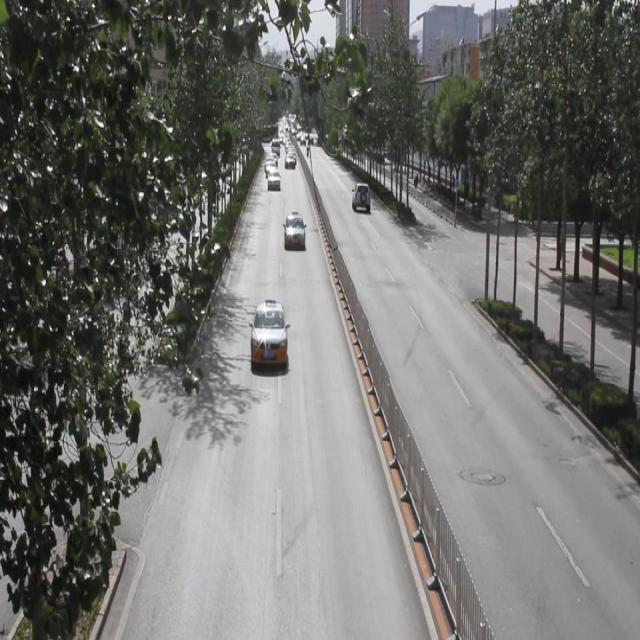car: (250, 299, 286, 368), (284, 211, 305, 251), (351, 181, 369, 214)
